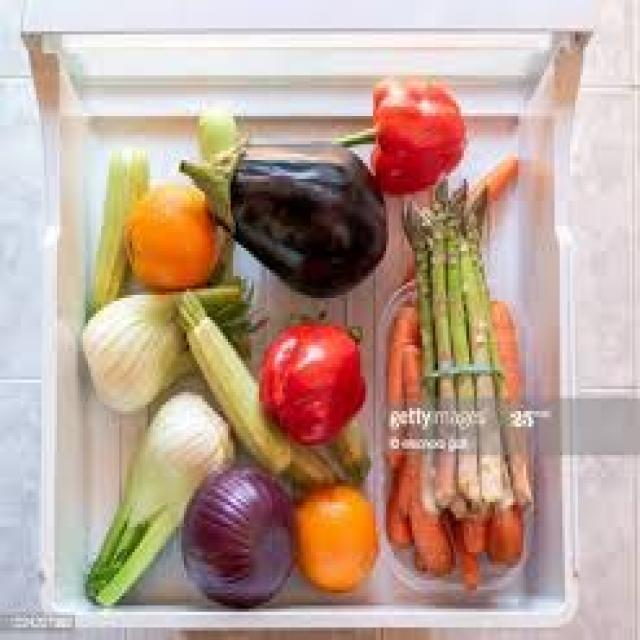organic waste: (399, 173, 529, 505), (80, 389, 234, 602), (174, 141, 384, 292), (78, 273, 259, 411), (176, 295, 290, 467), (326, 76, 458, 194), (179, 462, 290, 602), (256, 304, 368, 436), (394, 339, 451, 568), (124, 179, 226, 282), (381, 301, 422, 552), (288, 477, 373, 587), (86, 151, 148, 301), (490, 295, 523, 558), (267, 427, 337, 489), (332, 414, 373, 490), (192, 94, 236, 163), (472, 151, 516, 210), (451, 511, 479, 590), (399, 242, 420, 304), (474, 508, 492, 556), (461, 514, 485, 546), (412, 527, 428, 571)
